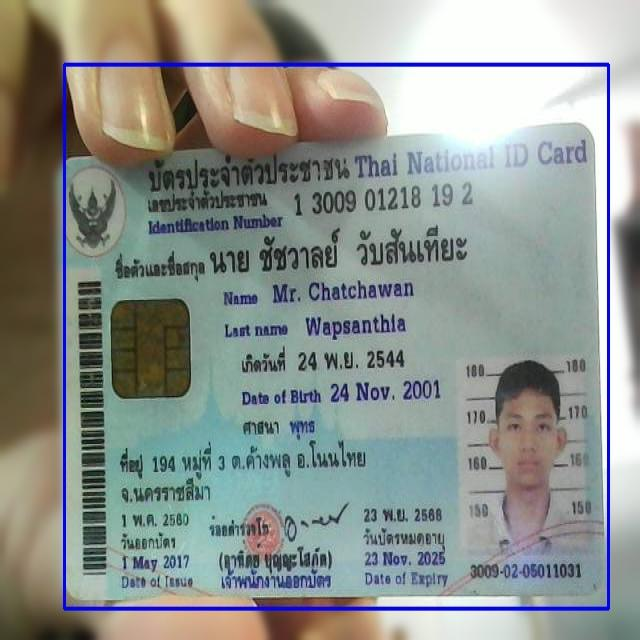Address_th: (115, 438, 382, 507)
Date_of_Birth: (327, 374, 444, 406)
Date_of_Expiry: (354, 546, 454, 573)
Date_of_Issue: (118, 552, 198, 573)
First_Name: (269, 274, 418, 306)
ID_Number: (290, 179, 478, 220)
Image: (457, 356, 592, 558)
Last_Name: (303, 311, 410, 344)
Thai_Name: (207, 224, 473, 277)
